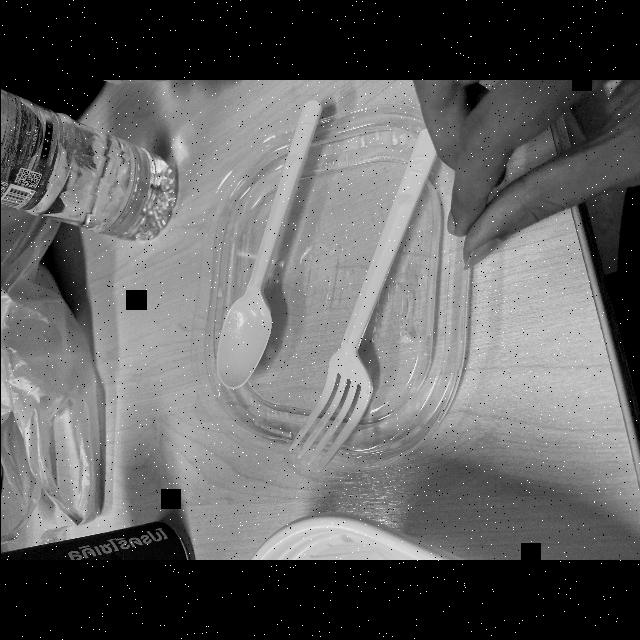plastic_cultery: (278, 128, 438, 462), (203, 85, 344, 402)
